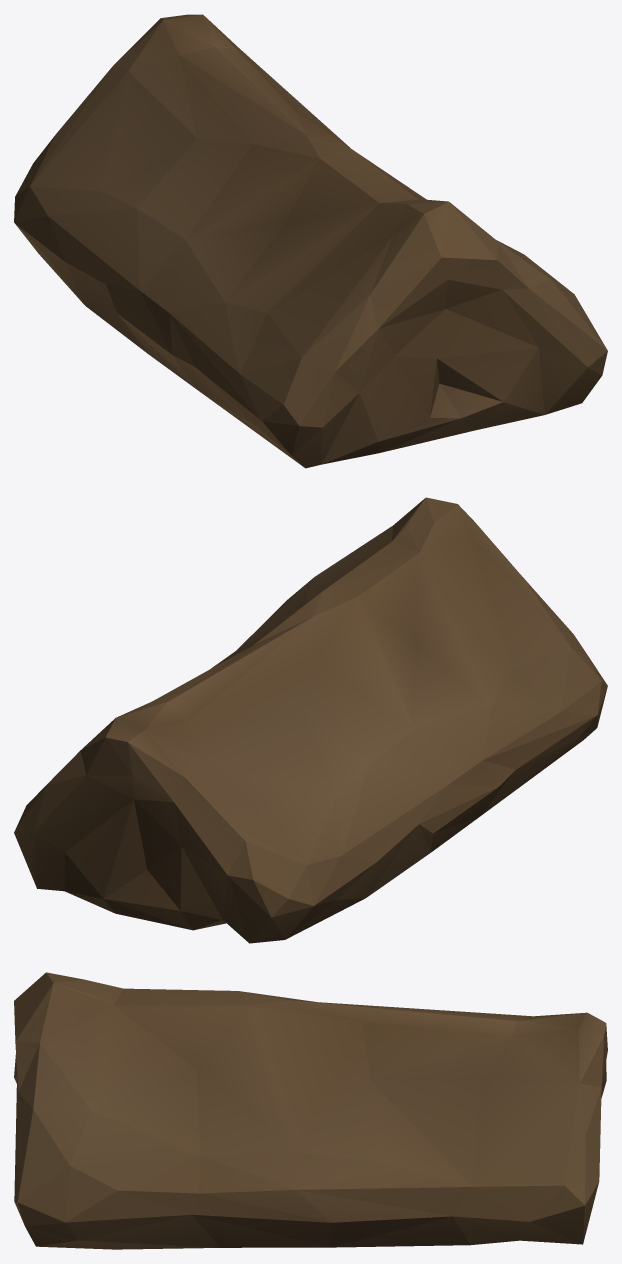
Rendered from peamaja.glb.
The picture shows the model from 3 angles, top to bottom: view 1: azimuth 30°, elevation 25°; view 2: azimuth 150°, elevation 25°; view 3: azimuth 270°, elevation 25°; orthographic projection. The views are drawn at different scales.
Visible parts, largest first — view 1: model.001; view 2: model.001; view 3: model.001.
Part boxes in pixels (bbox=[...]): model.001: bbox=[14, 14, 607, 468]; model.001: bbox=[14, 497, 607, 943]; model.001: bbox=[14, 972, 607, 1249].
Bounding box in the file's own units: 0.6137 × 0.4057 × 1.02.
